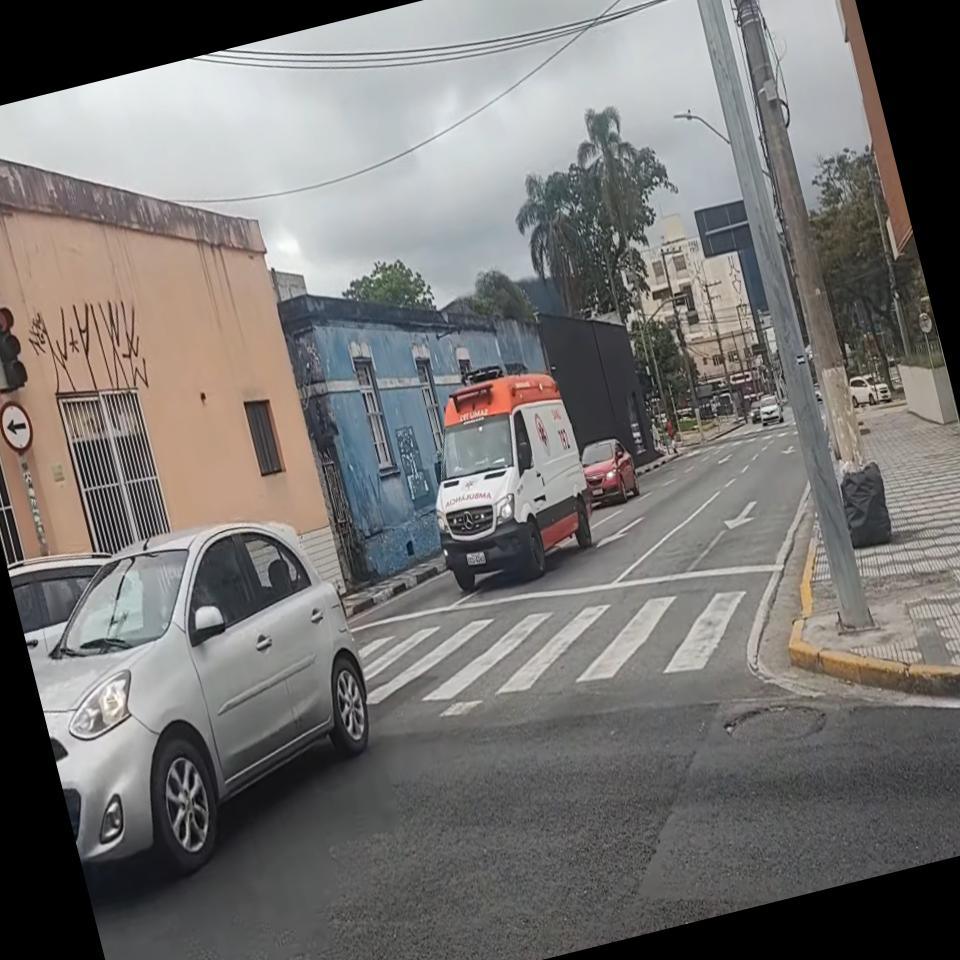bombeiro: (403, 360, 609, 600)
